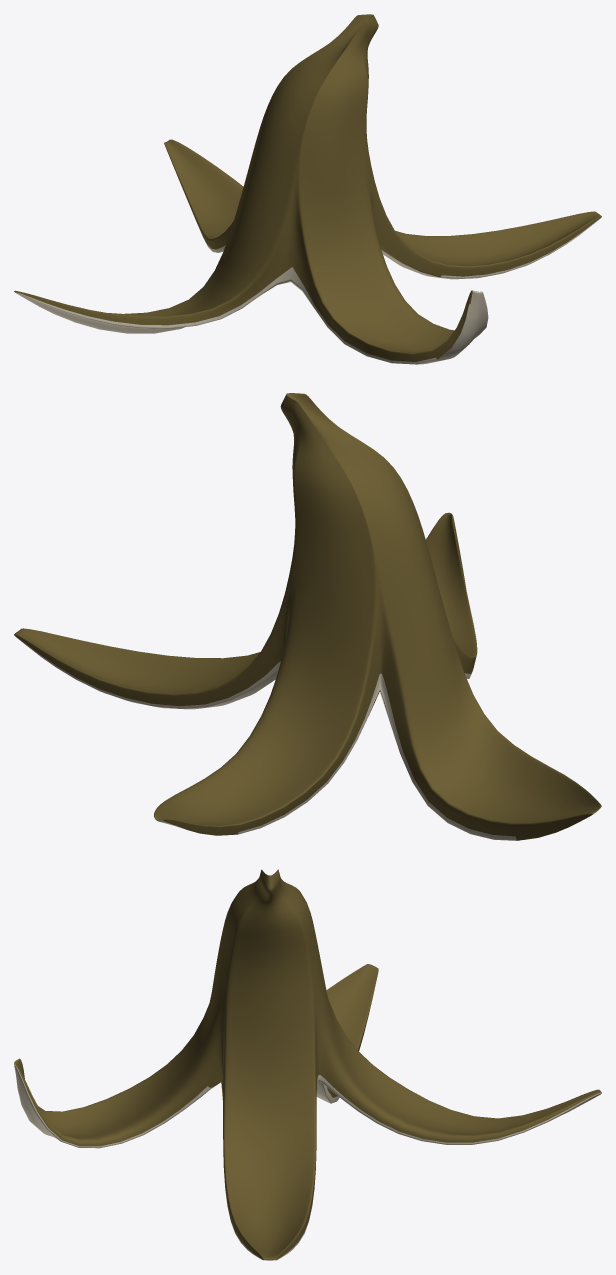
The model's file is banana-smooth.fbx.
The picture shows the model from 3 angles, top to bottom: view 1: azimuth 30°, elevation 25°; view 2: azimuth 150°, elevation 25°; view 3: azimuth 270°, elevation 25°; orthographic projection. The views are drawn at different scales.
Parts seen in each view (by area): view 1: polySurface7; view 2: polySurface7; view 3: polySurface7.
Boxes of the visible parts, <box> form: polySurface7: <box>14,14,601,364</box>; polySurface7: <box>14,393,601,840</box>; polySurface7: <box>14,869,601,1260</box>.
Bounding box in the file's own units: 7.28 × 3.85 × 6.55.
